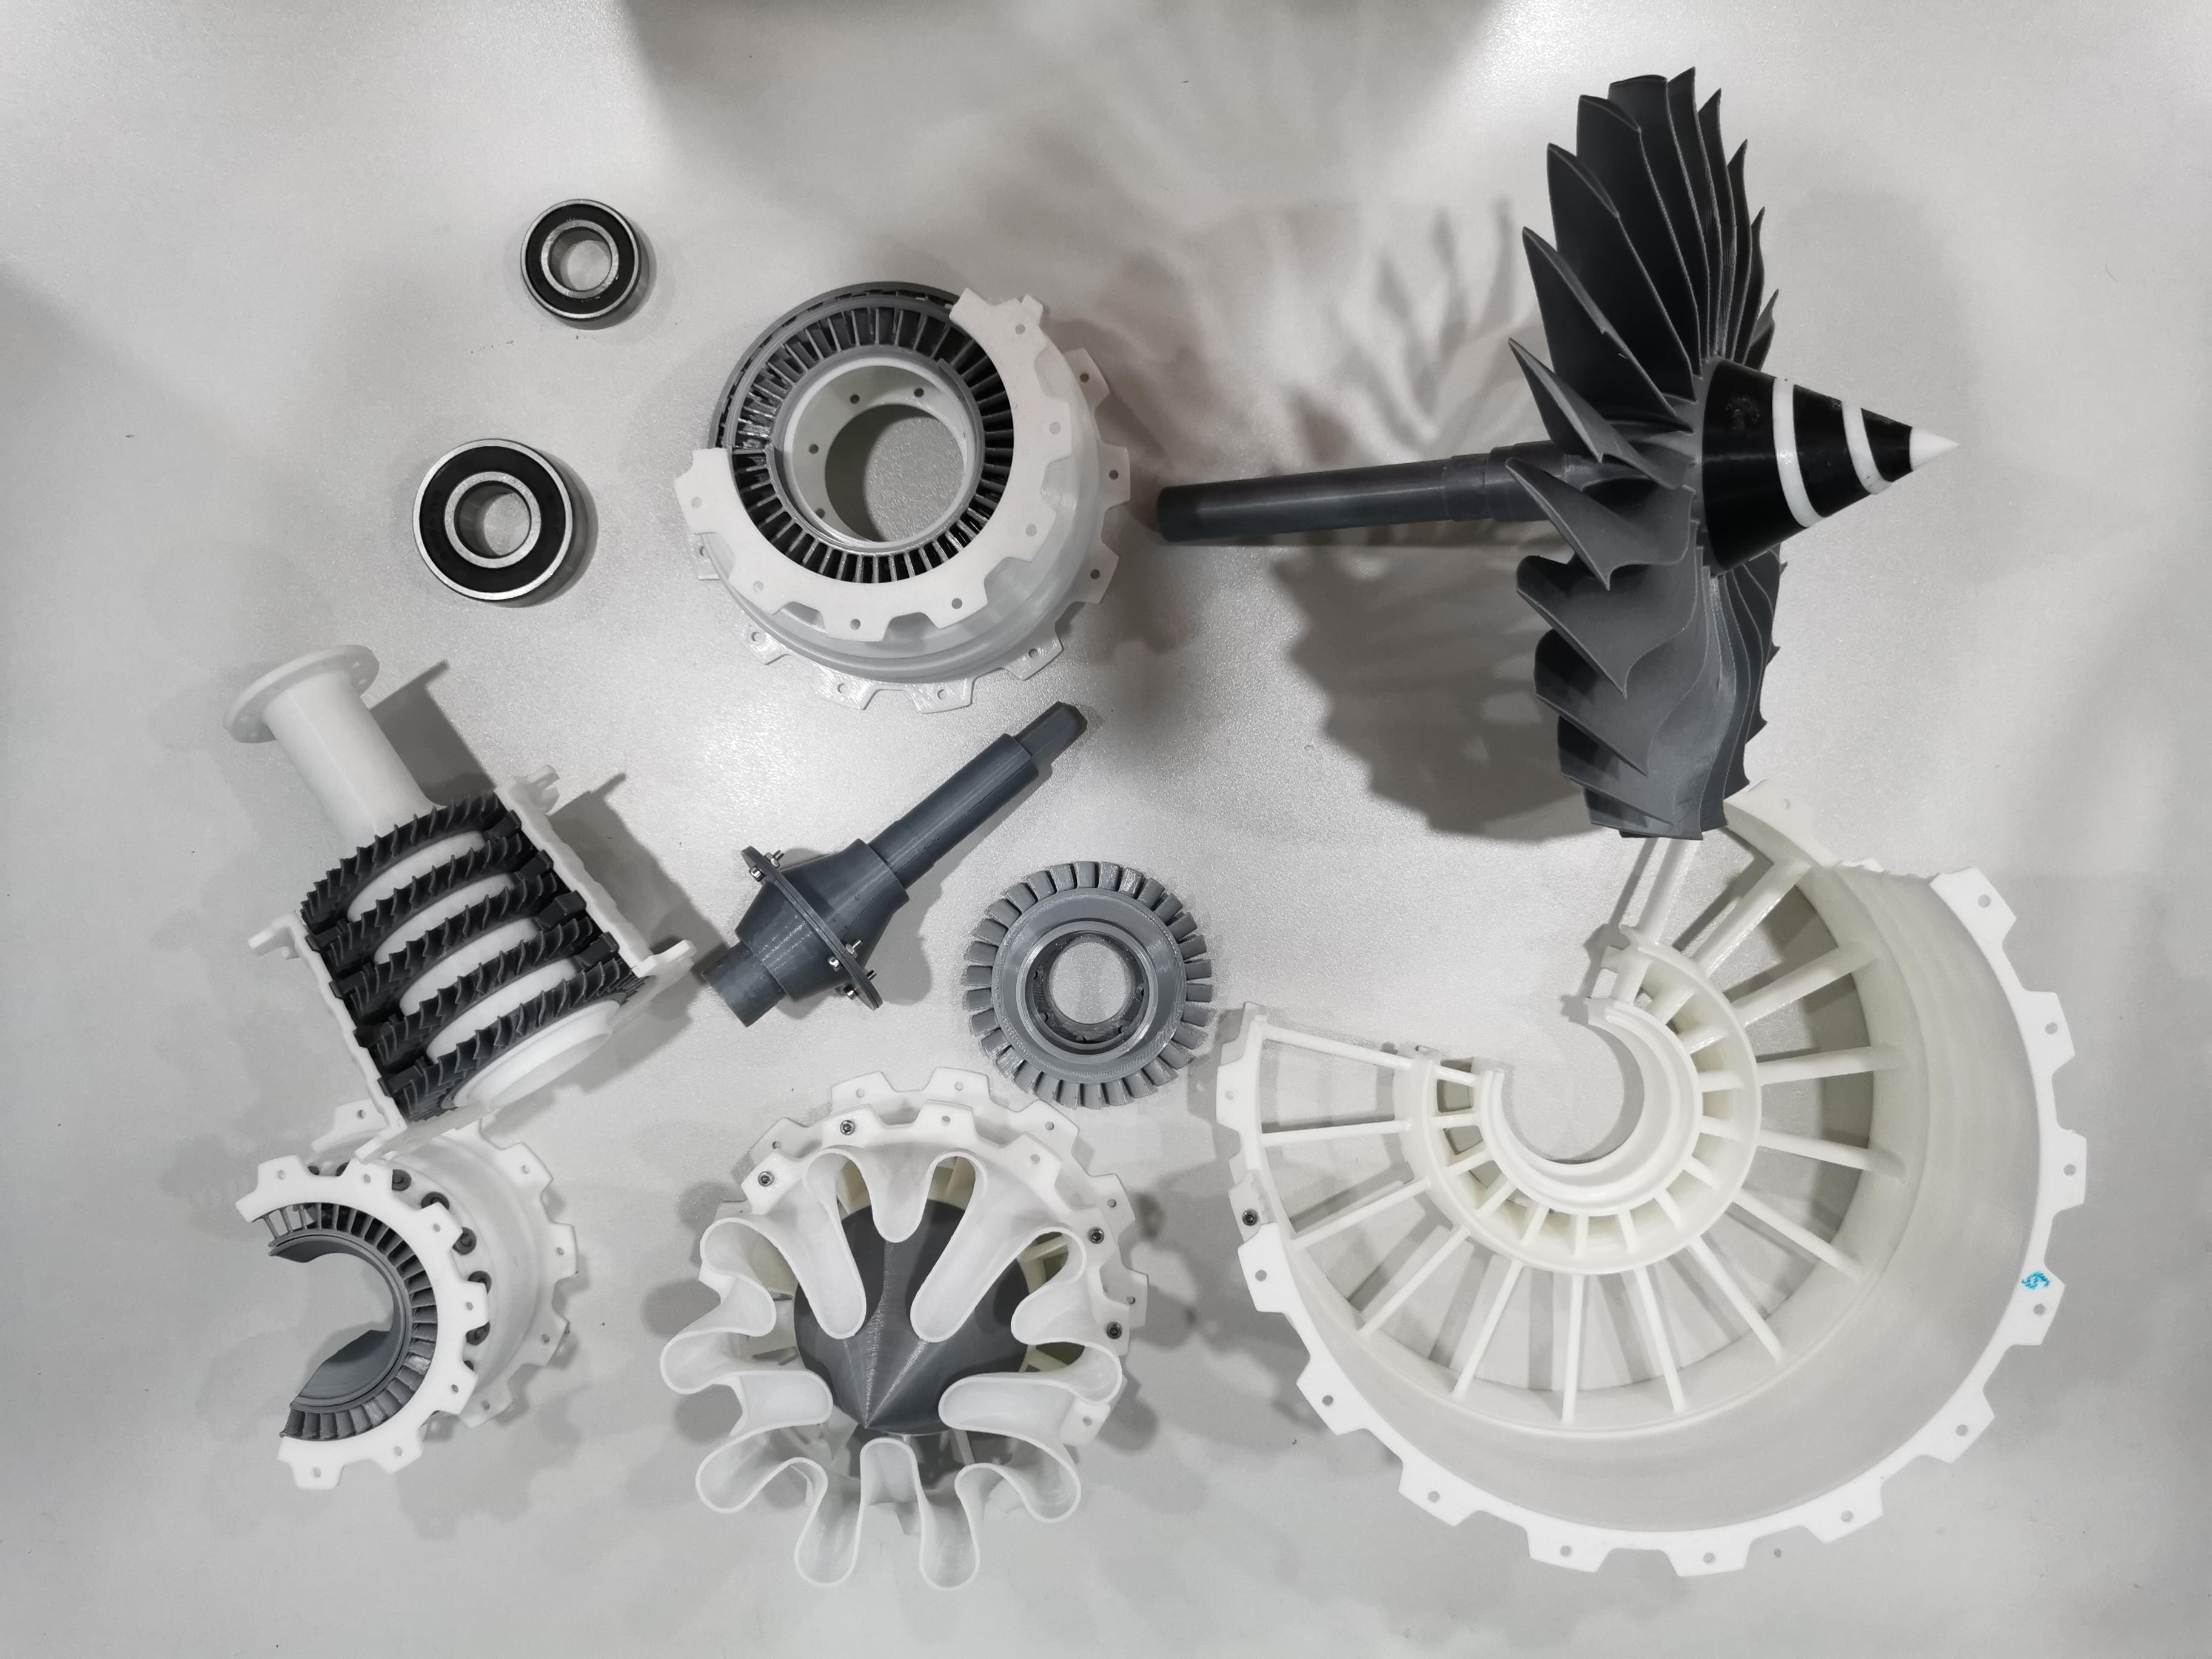Bearing-6003: (505, 188, 657, 336)
Bearing-6204: (394, 429, 592, 619)
Combustion Section: (219, 1089, 594, 1499)
Fan Casing and Support: (1205, 760, 2099, 1591)
Fan and Low Pressure Shaft: (1148, 61, 1972, 845)
HPT Section: (956, 854, 1231, 1117)
High Pressure Spool: (218, 638, 698, 1166)
LPT Section: (662, 272, 1146, 713)
Low Pressure Spool: (691, 683, 1103, 1035)
Nozzle Section: (643, 1065, 1158, 1601)
